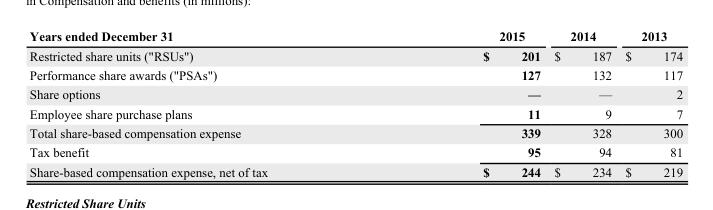table: (28, 28, 682, 178)
table column: (28, 28, 374, 178), (374, 28, 546, 178), (546, 28, 617, 178), (617, 28, 682, 178)
table column header: (28, 28, 682, 45)
table row: (28, 64, 682, 84), (28, 103, 682, 123), (28, 45, 682, 64), (28, 84, 682, 103), (28, 123, 682, 142), (28, 142, 682, 161), (28, 28, 682, 45), (28, 161, 682, 178)
